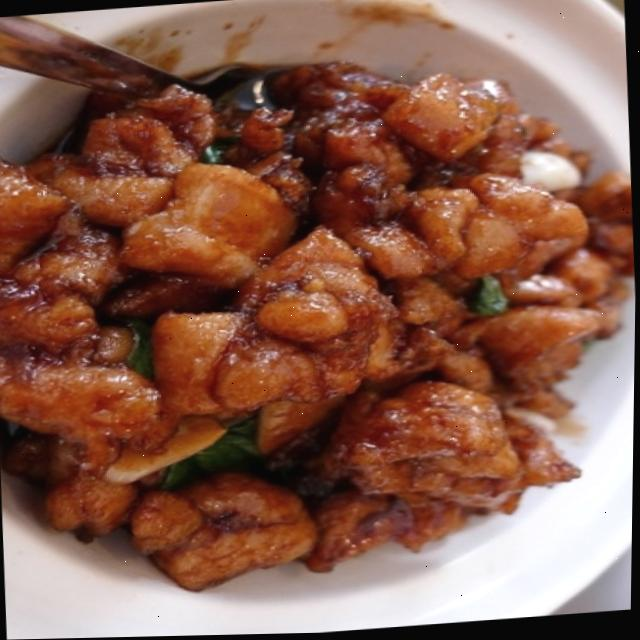鸡肉料理 含炸鸡: (4, 0, 640, 628)
